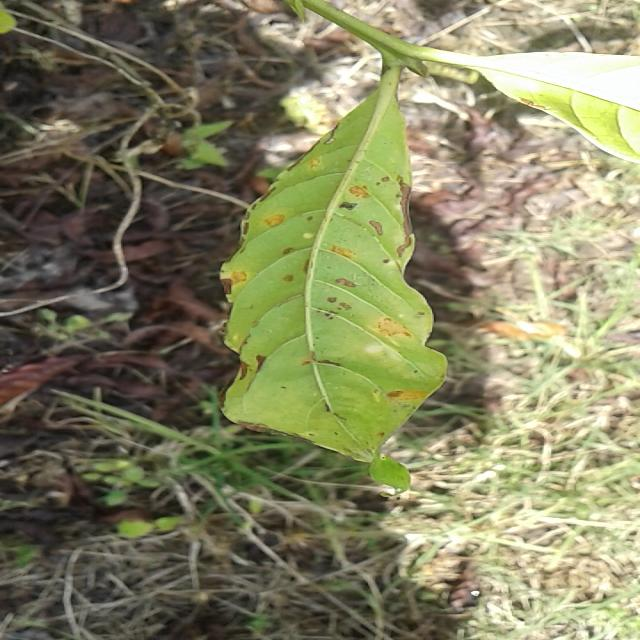Enfermedad-Roya: (219, 64, 449, 488)
